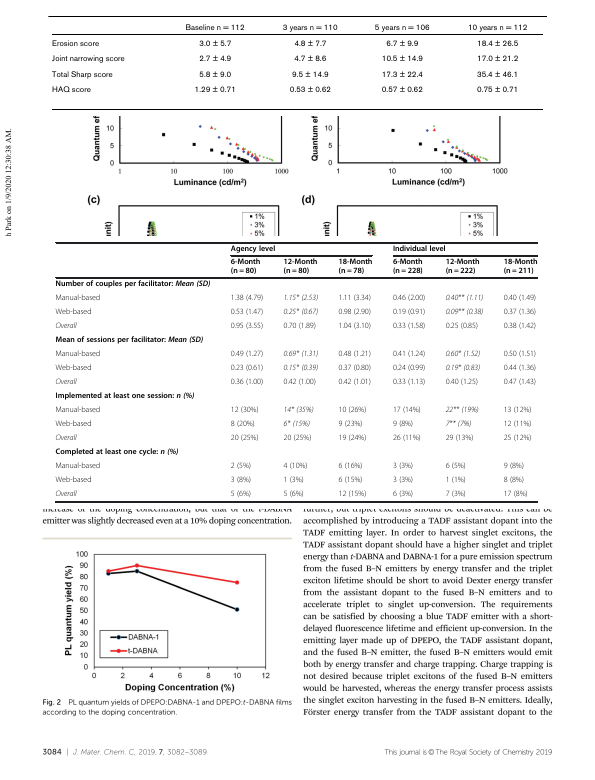borderless: (54, 241, 537, 501), (47, 14, 543, 109)
cell: (55, 280, 211, 290), (55, 336, 204, 346), (55, 392, 195, 402), (55, 448, 179, 458), (50, 55, 125, 65), (283, 258, 318, 277), (338, 258, 373, 277), (445, 258, 480, 277), (503, 258, 538, 277), (50, 70, 113, 80), (466, 23, 528, 33), (184, 23, 245, 33), (392, 258, 424, 277), (230, 258, 261, 277), (281, 23, 338, 33), (373, 23, 430, 33), (392, 245, 447, 254), (50, 39, 99, 49), (475, 39, 519, 49), (475, 55, 519, 65), (475, 70, 519, 80), (475, 86, 519, 96), (380, 55, 423, 65), (380, 70, 423, 80), (193, 86, 236, 96), (288, 86, 331, 96), (380, 86, 423, 96), (230, 245, 276, 254), (55, 294, 101, 303), (55, 350, 101, 359), (55, 406, 101, 415), (55, 462, 101, 471), (50, 86, 91, 96), (290, 70, 329, 80), (445, 294, 484, 303), (445, 308, 484, 317), (198, 39, 232, 49), (293, 39, 327, 49), (385, 39, 419, 49), (198, 55, 232, 65), (293, 55, 327, 65), (198, 70, 232, 80), (55, 308, 92, 317), (55, 364, 92, 373), (55, 420, 92, 429), (55, 476, 92, 485), (283, 294, 319, 303), (283, 308, 319, 317), (283, 350, 319, 359), (445, 350, 481, 359), (283, 364, 319, 373), (445, 364, 481, 373), (445, 406, 480, 415), (230, 294, 264, 303), (338, 294, 372, 303), (392, 294, 426, 303), (503, 294, 537, 303), (230, 308, 264, 317), (338, 308, 372, 317), (392, 308, 426, 317), (503, 308, 537, 317), (230, 322, 264, 331), (283, 322, 317, 331), (338, 322, 372, 331), (392, 322, 426, 331), (445, 322, 479, 331), (503, 322, 537, 331), (230, 350, 264, 359), (338, 350, 372, 359), (392, 350, 426, 359), (503, 350, 537, 359), (230, 364, 264, 373), (338, 364, 372, 373), (392, 364, 426, 373), (503, 364, 537, 373), (230, 378, 264, 387), (283, 378, 317, 387), (338, 378, 372, 387), (392, 378, 426, 387), (445, 378, 479, 387), (503, 378, 537, 387), (283, 406, 314, 415), (392, 406, 422, 415), (392, 434, 422, 443), (230, 406, 259, 415), (338, 406, 367, 415), (503, 406, 532, 415), (503, 420, 532, 429), (230, 434, 259, 443), (283, 434, 312, 443), (338, 434, 367, 443), (445, 434, 474, 443), (503, 434, 532, 443), (338, 490, 367, 499), (283, 420, 311, 429), (445, 420, 472, 429), (230, 420, 256, 429), (503, 490, 529, 499), (338, 420, 363, 429), (283, 462, 308, 471), (338, 462, 363, 471), (338, 476, 363, 485), (55, 322, 78, 331), (55, 378, 78, 387), (55, 434, 78, 443), (55, 490, 78, 499), (392, 420, 414, 429), (230, 462, 252, 471), (392, 462, 414, 471), (445, 462, 467, 471), (503, 462, 525, 471), (230, 476, 252, 485), (283, 476, 305, 485), (392, 476, 414, 485), (445, 476, 467, 485), (503, 476, 525, 485), (230, 490, 252, 499), (283, 490, 305, 499), (392, 490, 414, 499), (445, 490, 467, 499)
